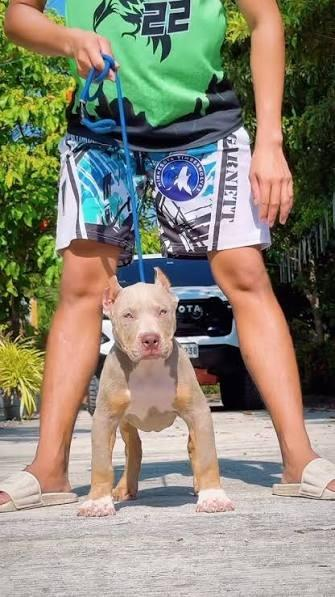adult_dog: (77, 268, 236, 517)
non-dog: (0, 0, 335, 513)
